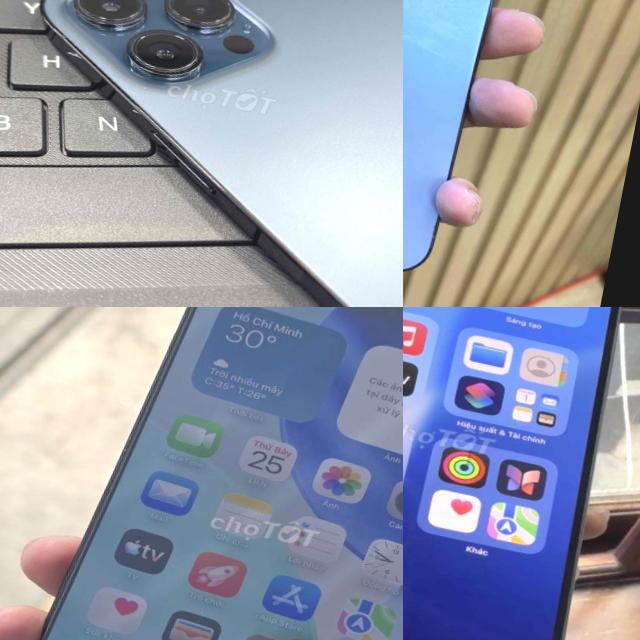gen_12_13: (0, 0, 403, 307), (403, 0, 525, 291)
gen_15: (403, 307, 640, 640)
gen_16: (36, 307, 403, 640)
